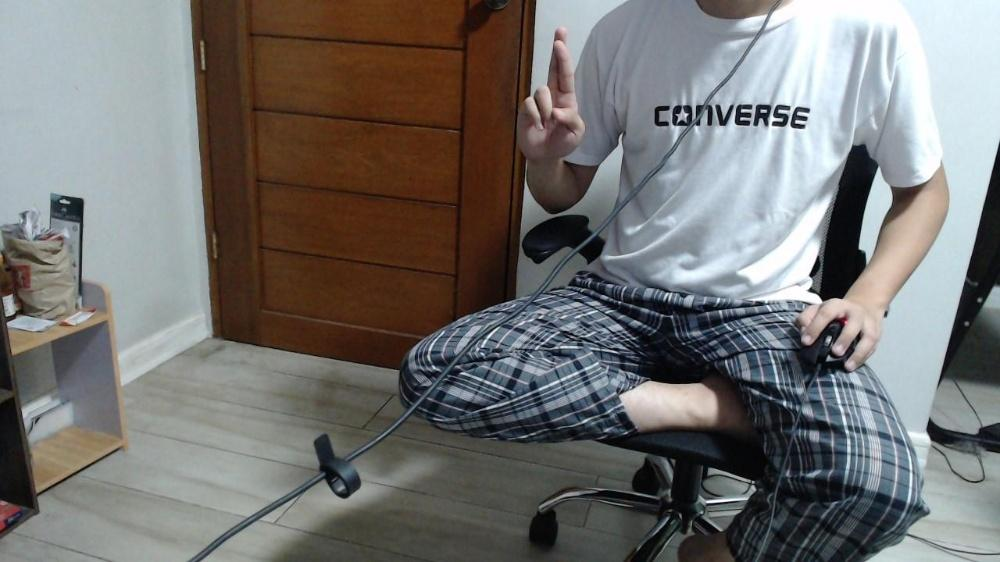r: (515, 27, 584, 157)
